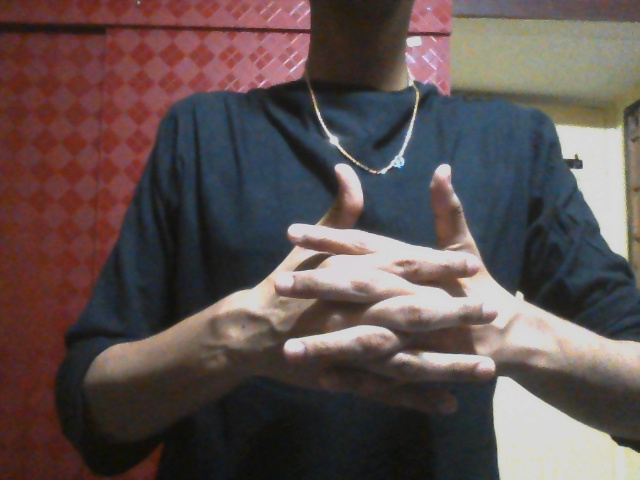W: (234, 160, 515, 423)
